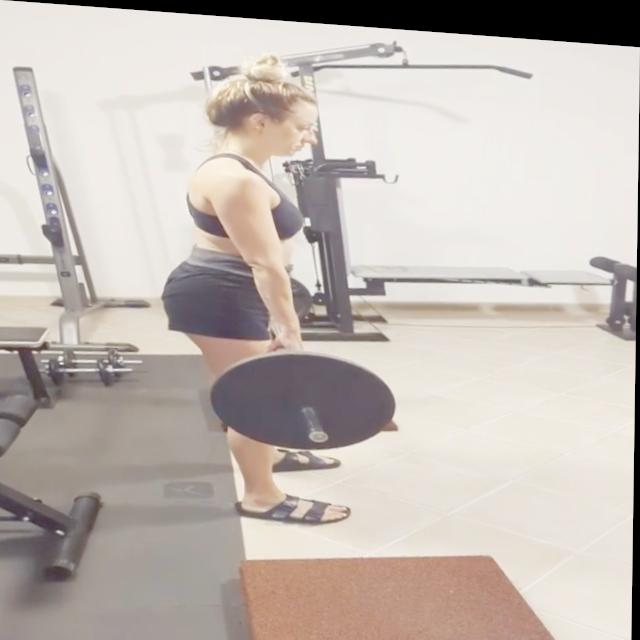barbell: (205, 338, 398, 453)
